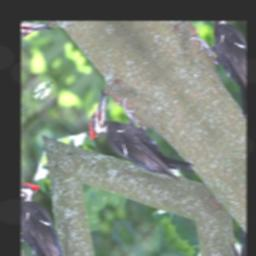Woodpecker: (72, 75, 197, 212)
